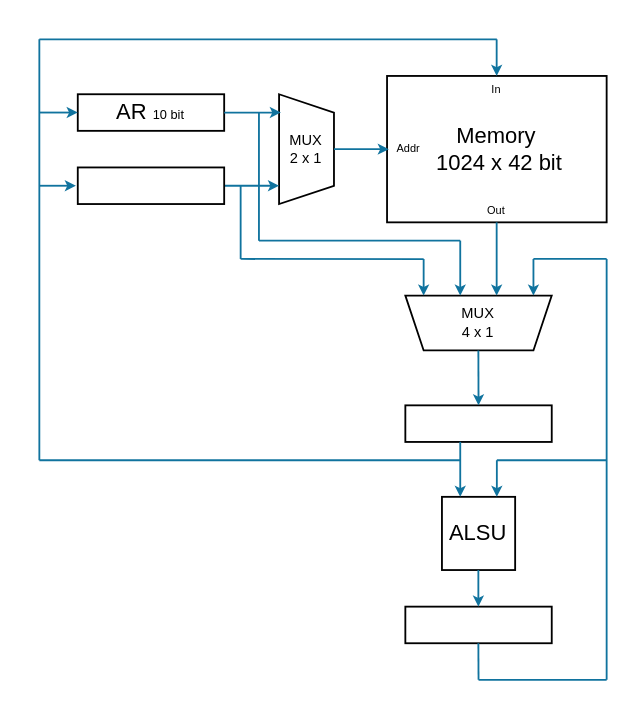
Some shapes in this 641 by 714 pixel diagram are drawn without their labels. The shapes that lost their labels are listed below. From the top down, each one's box as (x1, y1, x2, y2) in pixels, then its label:
(76, 166, 224, 204): PC 10 bit
(404, 404, 552, 442): DR 42 bit
(404, 605, 552, 643): AC 42 bit
